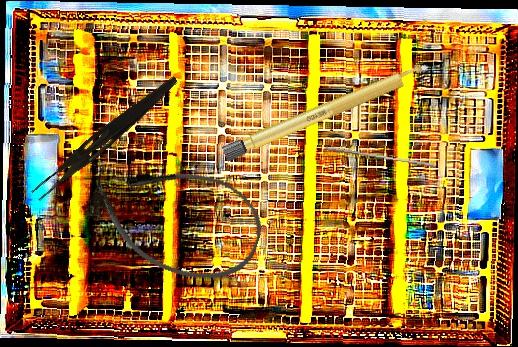Cannula: (77, 142, 273, 296)
Dressing Forceps: (30, 68, 181, 207)
Pusher: (323, 146, 438, 168)
Scalpel Handle: (221, 59, 434, 163)
